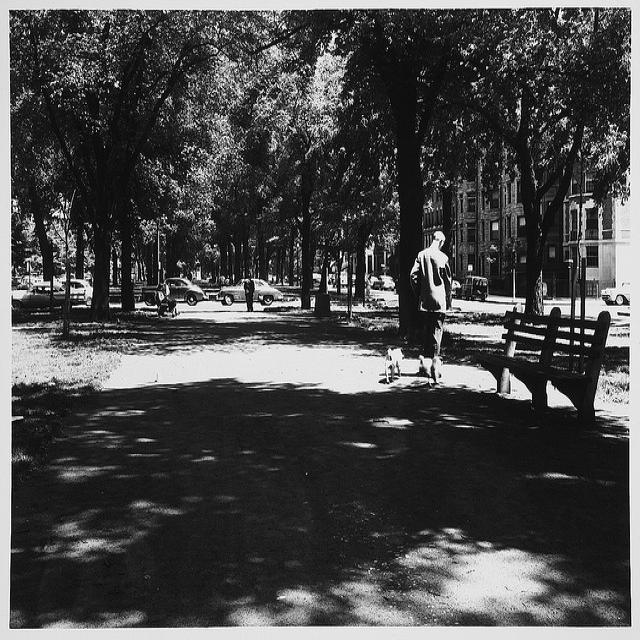Vehicle: (215, 278, 283, 306), (166, 277, 204, 305), (20, 284, 67, 302), (457, 276, 489, 302), (64, 279, 93, 307), (601, 281, 630, 306)
